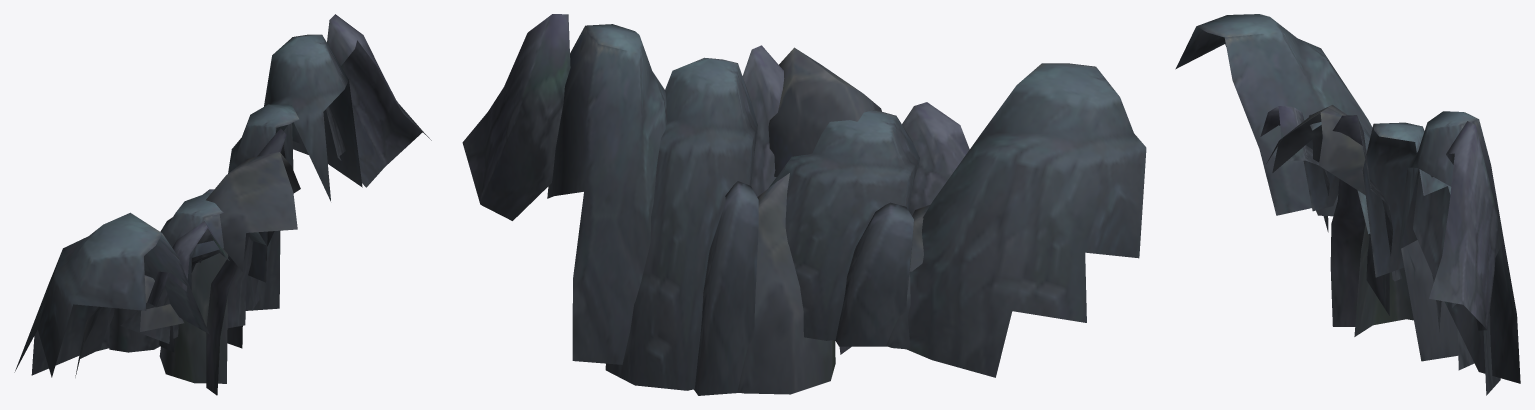
The model's file is Area_10_21.fbx.
The picture shows the model from 3 angles, left to right: view 1: azimuth 30°, elevation 25°; view 2: azimuth 150°, elevation 25°; view 3: azimuth 270°, elevation 25°; orthographic projection. The views are drawn at different scales.
Parts seen in each view (by area): view 1: Area_10_21; view 2: Area_10_21; view 3: Area_10_21.
Boxes of the visible parts, left/top/right/bottom form: Area_10_21: left=14, top=14, right=431, bottom=395; Area_10_21: left=462, top=14, right=1146, bottom=395; Area_10_21: left=1175, top=14, right=1520, bottom=395.
Size of the model in its own units: 6008 by 3489 by 3670.
